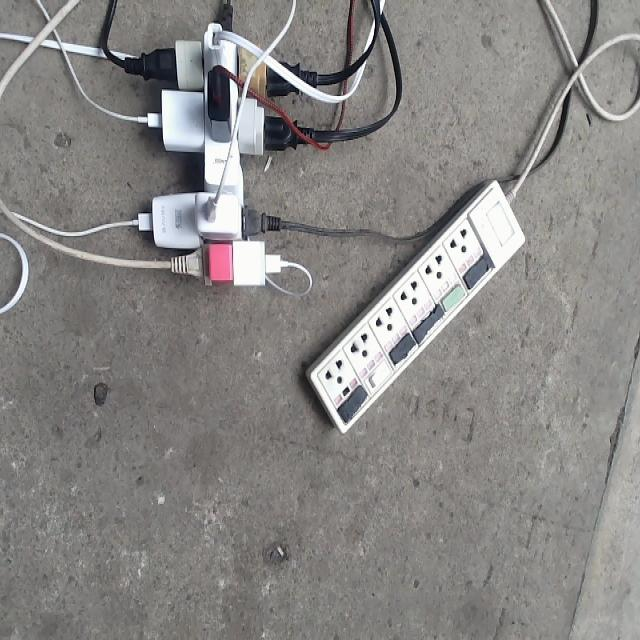-: (120, 1, 318, 287)
